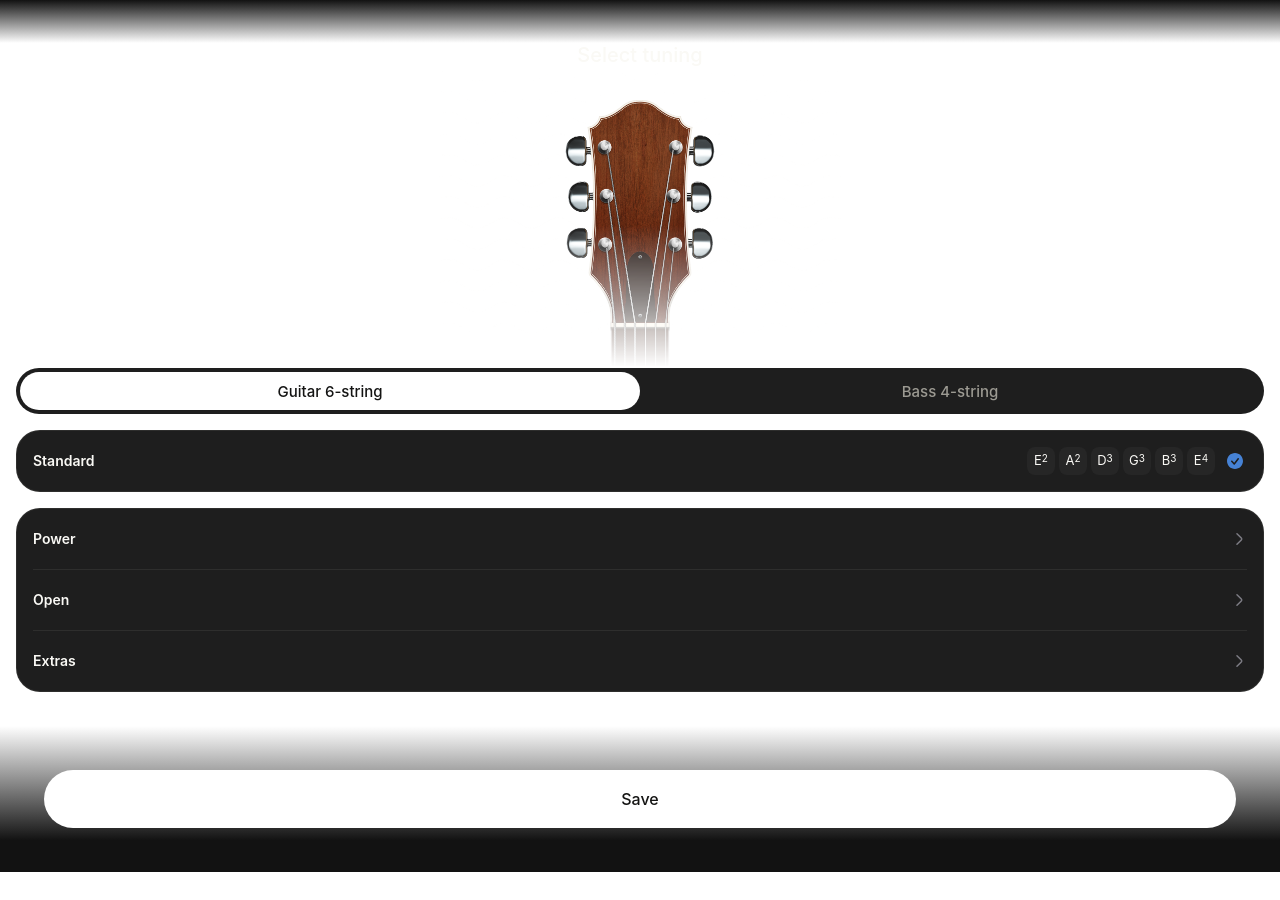
SelectTuningScreen › shows Standard plus a plain (no catalog headers) list of bass tunings after switching segments
Click the tab "Bass 4-string".
click(950, 391)  # box top-left (640, 372), bottom-right (1260, 410)
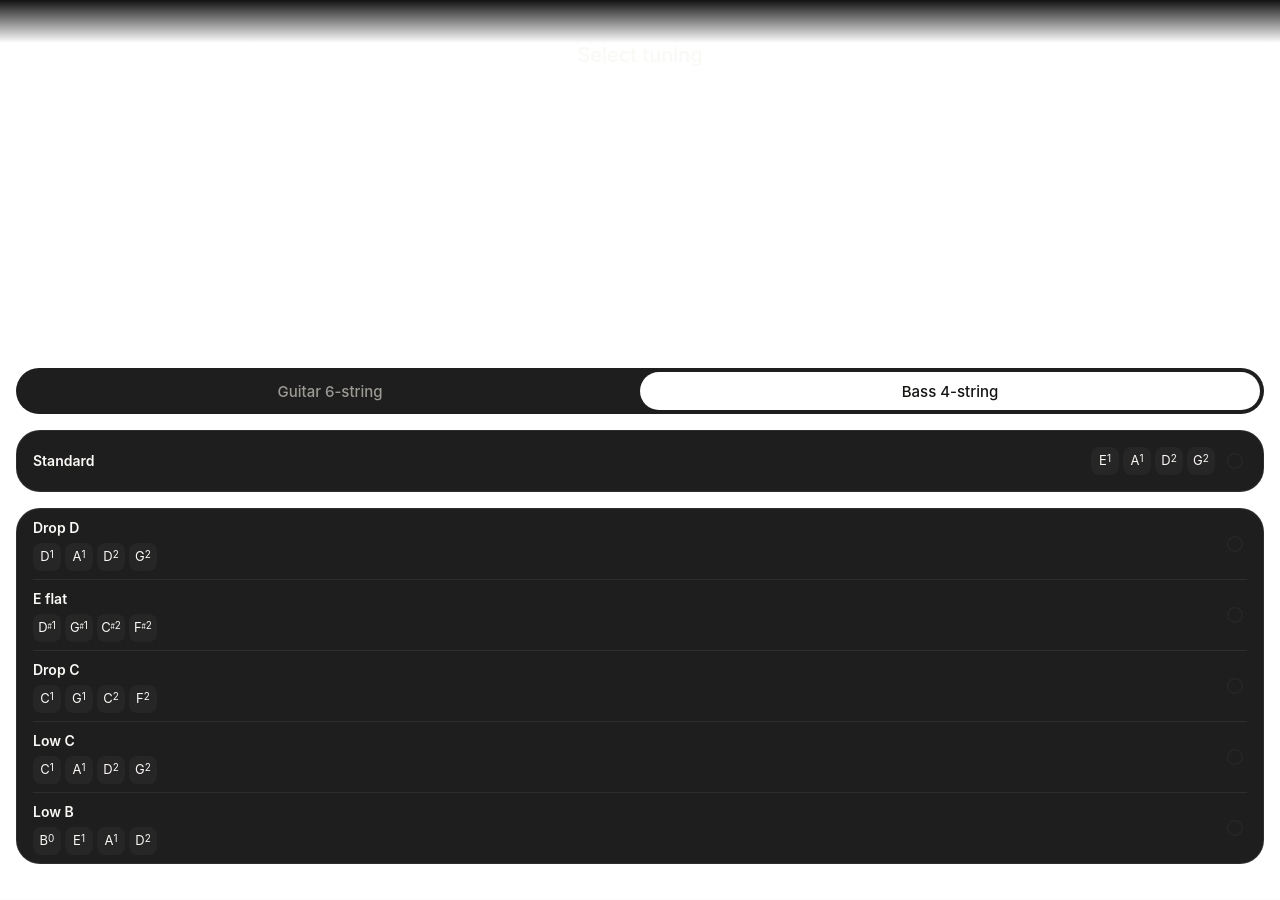
Expected: the text "Standard" is shown once, top-left (33, 450), bottom-right (94, 472)
Expected: the button "Power" is gone
Expected: the text "E flat" is shown, top-left (33, 590), bottom-right (67, 607)
